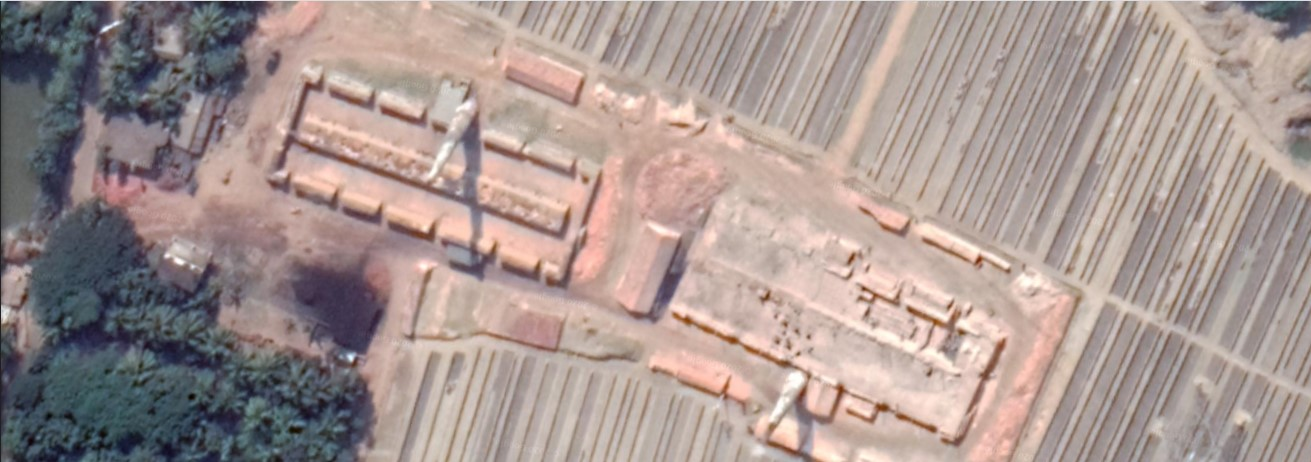kiln: (651, 213, 1027, 457), (281, 59, 611, 274)
